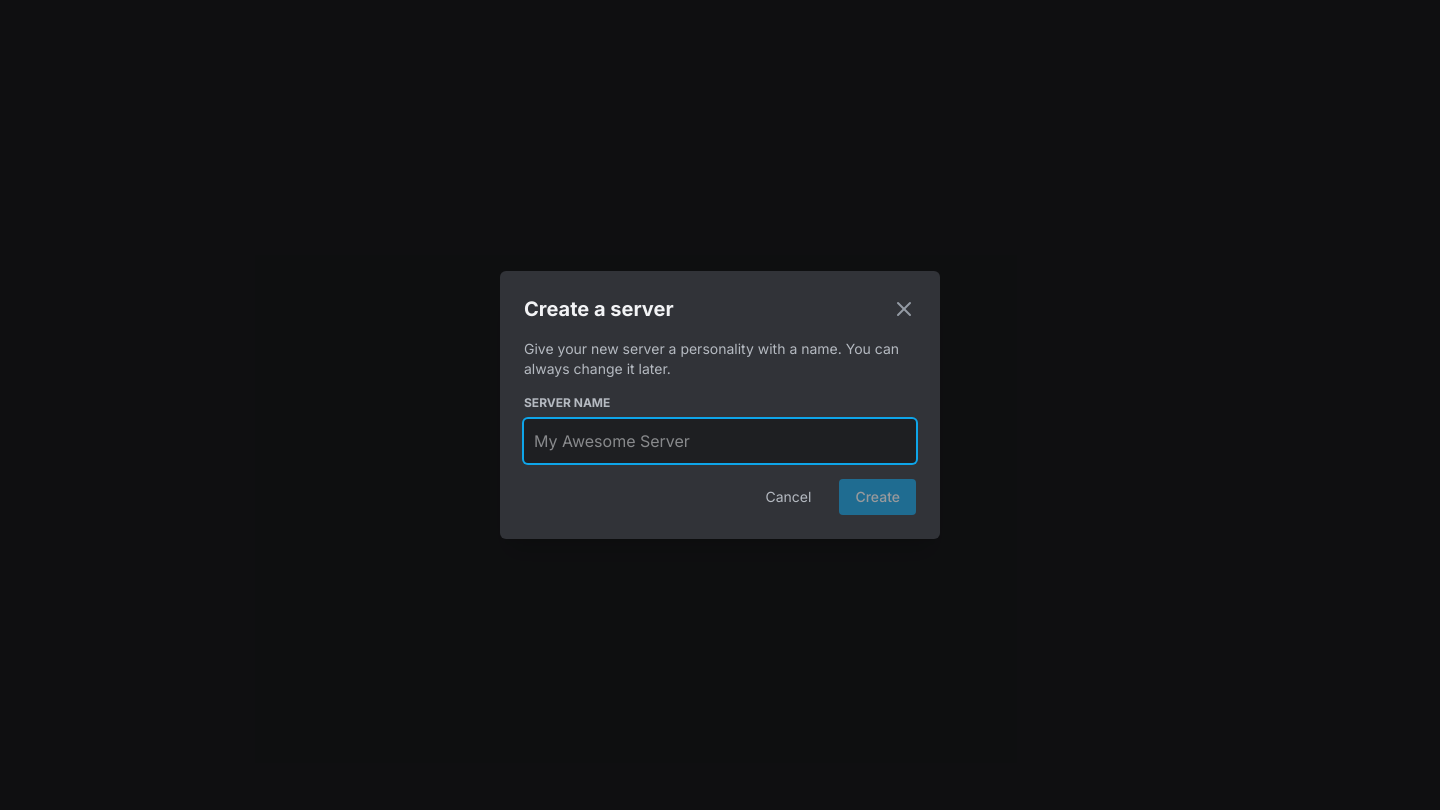
Test: CreateServerModal › shows Creating... text while loading
Type "Test Server" into the field with placeholder "My Awesome Server" at (720, 441), box [524,419,916,463]
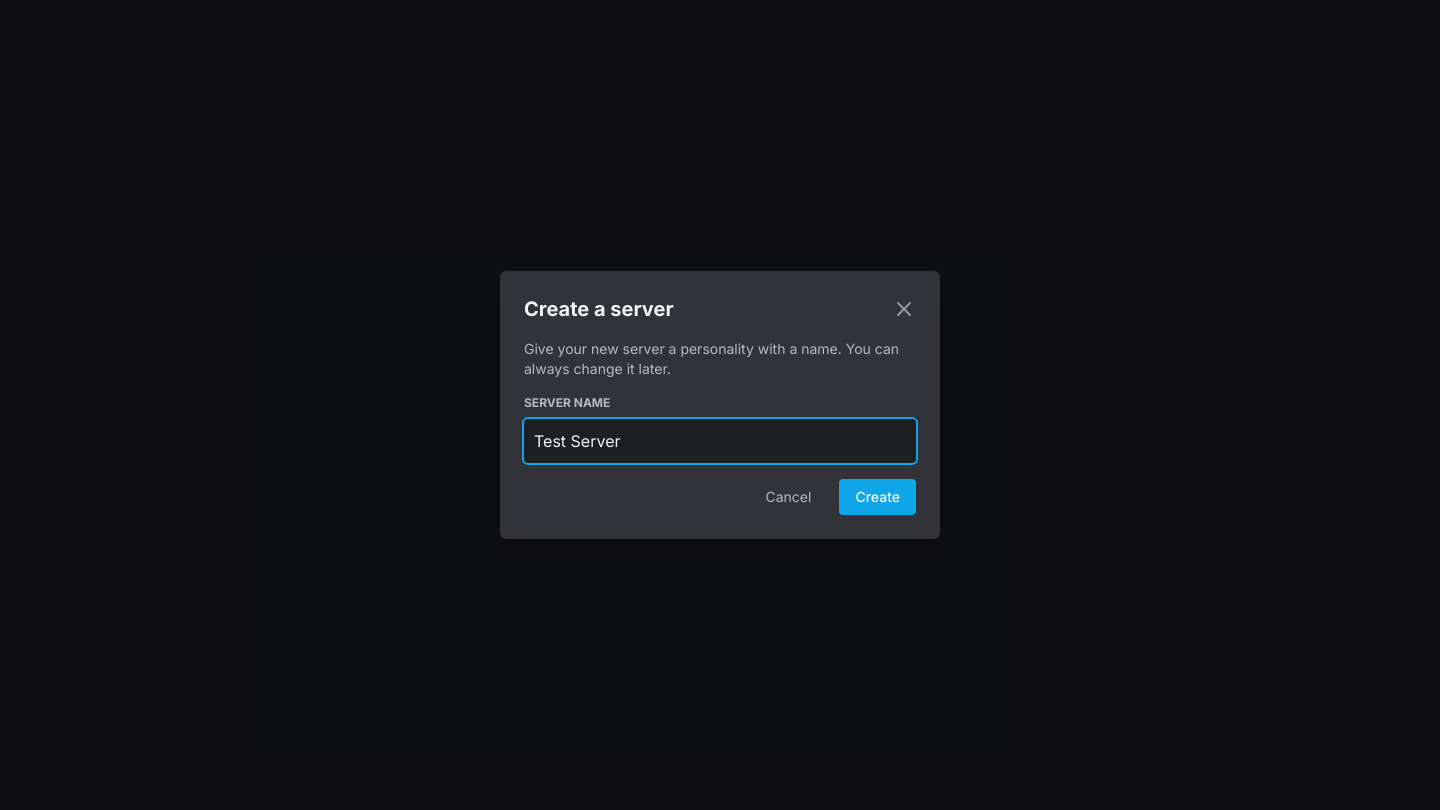
Click the button "Create" at (878, 497), box [839,479,916,515]
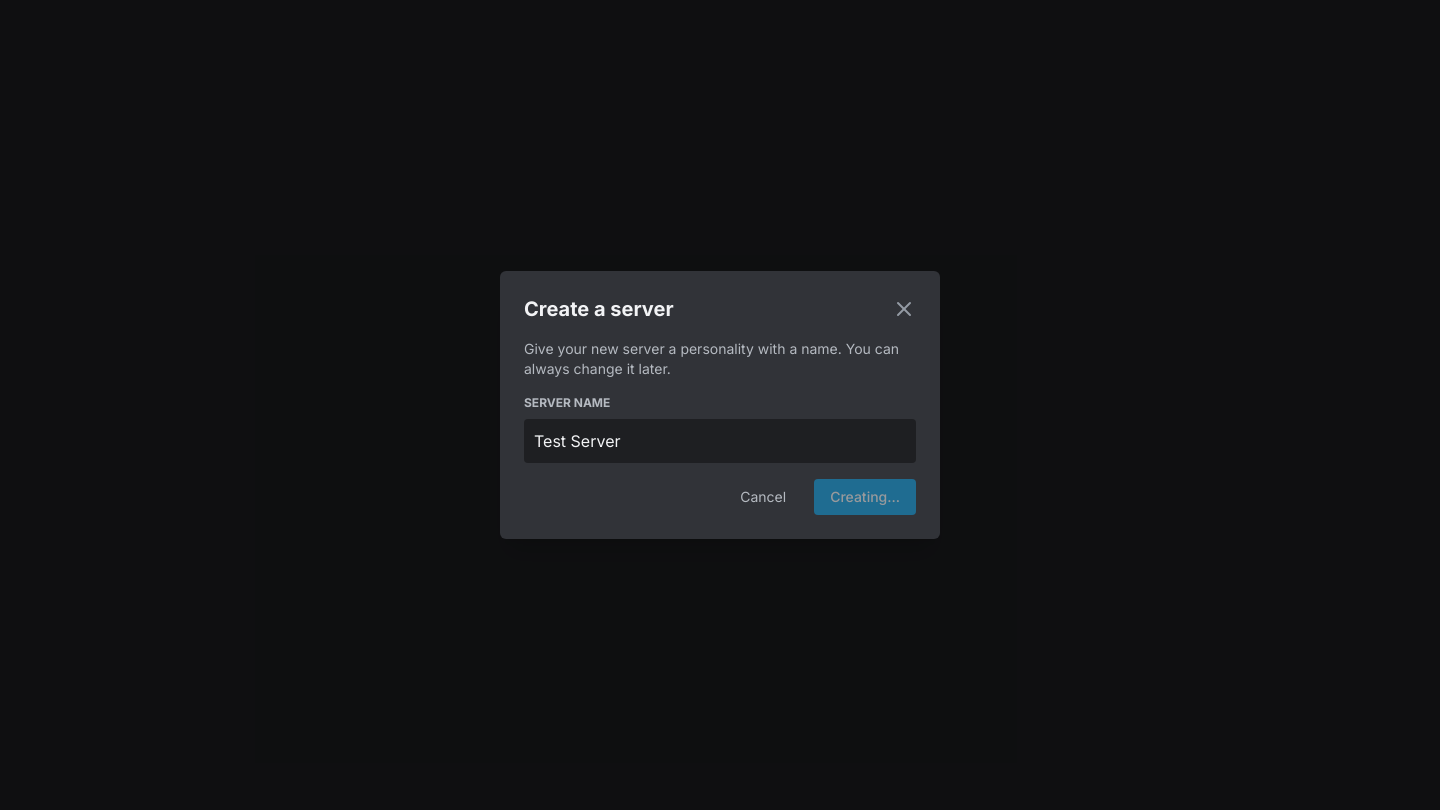
Expected: the button "Creating..." is shown, [814,479,916,515]
